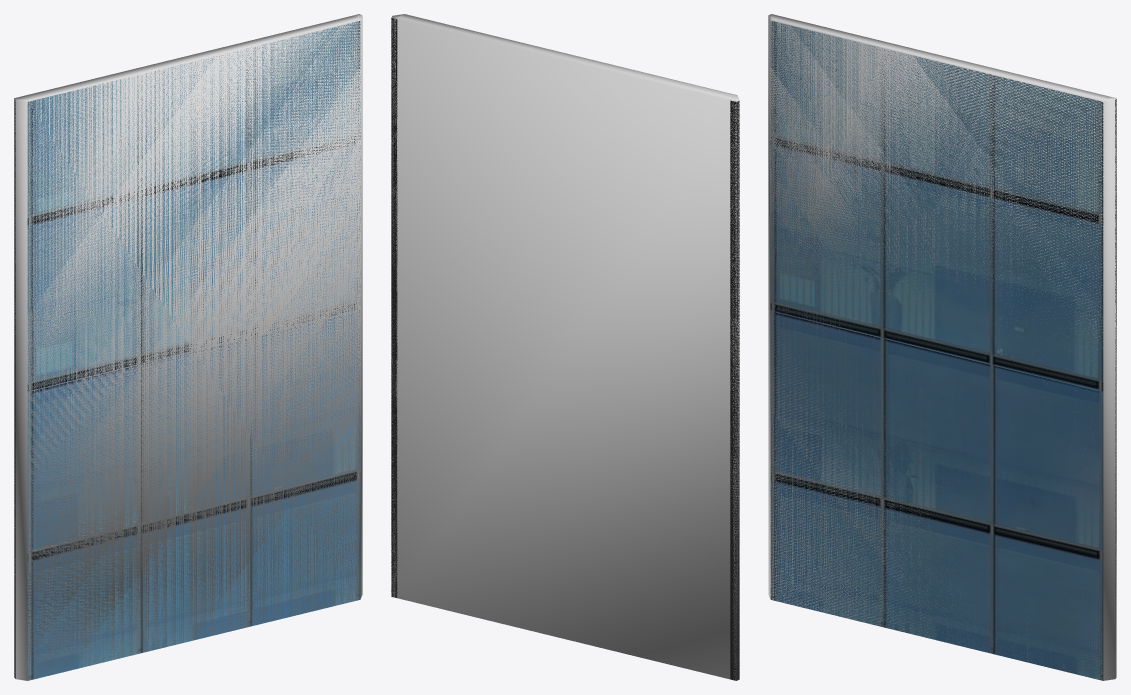
The picture shows the model from 3 angles, left to right: view 1: azimuth 30°, elevation 25°; view 2: azimuth 150°, elevation 25°; view 3: azimuth 330°, elevation 25°; orthographic projection.
Visible parts, largest first — view 1: struct_city_block_low_tier1_a_01_col, struct_city_block_low_tier1_a_01; view 2: struct_city_block_low_tier1_a_01_col, struct_city_block_low_tier1_a_01; view 3: struct_city_block_low_tier1_a_01, struct_city_block_low_tier1_a_01_col.
Boxes of the visible parts, x1=… form: struct_city_block_low_tier1_a_01_col: x1=14, y1=14, x2=362, y2=680; struct_city_block_low_tier1_a_01: x1=14, y1=21, x2=360, y2=680; struct_city_block_low_tier1_a_01_col: x1=391, y1=14, x2=739, y2=680; struct_city_block_low_tier1_a_01: x1=391, y1=18, x2=739, y2=680; struct_city_block_low_tier1_a_01: x1=770, y1=21, x2=1116, y2=680; struct_city_block_low_tier1_a_01_col: x1=768, y1=14, x2=1116, y2=680.
Size of the model in its own units: 3.58 by 5.71 by 0.1283.
2 materials, 2 textured.
